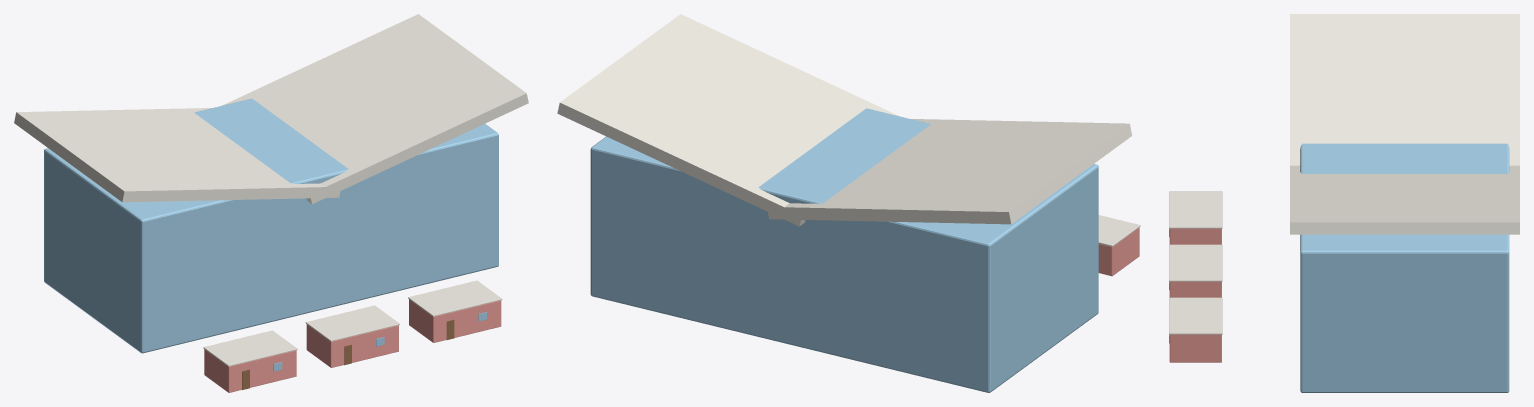
File: JagalchiMarket_blockout.glb
3 renders of one model, left to right at view 1: azimuth 30°, elevation 25°; view 2: azimuth 150°, elevation 25°; view 3: azimuth 270°, elevation 25°, orthographic. The views are drawn at different scales.
Parts seen in each view (by area): view 1: ENV08_JagalchiMarket_Market_L0, ENV08_JagalchiMarket_WingRoof1_L0, ENV08_JagalchiMarket_WingRoof0_L0, ENV08_JagalchiMarket_GrillShop2Wall_L0, ENV08_JagalchiMarket_GrillShop1Wall_L0, ENV08_JagalchiMarket_GrillShop0Wall_L0, ENV08_JagalchiMarket_GrillShop0Roof_L0, ENV08_JagalchiMarket_GrillShop2Roof_L0, ENV08_JagalchiMarket_GrillShop1Roof_L0; view 2: ENV08_JagalchiMarket_Market_L0, ENV08_JagalchiMarket_WingRoof1_L0, ENV08_JagalchiMarket_WingRoof0_L0, ENV08_JagalchiMarket_GrillShop0Wall_L0, ENV08_JagalchiMarket_GrillShop0Roof_L0; view 3: ENV08_JagalchiMarket_Market_L0, ENV08_JagalchiMarket_WingRoof0_L0, ENV08_JagalchiMarket_WingRoof1_L0, ENV08_JagalchiMarket_GrillShop0Roof_L0, ENV08_JagalchiMarket_GrillShop1Roof_L0, ENV08_JagalchiMarket_GrillShop2Roof_L0, ENV08_JagalchiMarket_GrillShop2Wall_L0, ENV08_JagalchiMarket_GrillShop0Wall_L0, ENV08_JagalchiMarket_GrillShop1Wall_L0.
Boxes of the visible parts, x1,y1,x2,y2 form: ENV08_JagalchiMarket_Market_L0: (44,98,498,353); ENV08_JagalchiMarket_WingRoof1_L0: (222,14,528,203); ENV08_JagalchiMarket_WingRoof0_L0: (14,108,340,202); ENV08_JagalchiMarket_GrillShop2Wall_L0: (409,299,501,342); ENV08_JagalchiMarket_GrillShop1Wall_L0: (306,324,398,367); ENV08_JagalchiMarket_GrillShop0Wall_L0: (204,349,296,392); ENV08_JagalchiMarket_GrillShop0Roof_L0: (203,330,297,366); ENV08_JagalchiMarket_GrillShop2Roof_L0: (408,280,502,316); ENV08_JagalchiMarket_GrillShop1Roof_L0: (305,305,399,341); ENV08_JagalchiMarket_Market_L0: (590,108,1098,392); ENV08_JagalchiMarket_WingRoof1_L0: (557,14,899,226); ENV08_JagalchiMarket_WingRoof0_L0: (767,119,1132,224); ENV08_JagalchiMarket_GrillShop0Wall_L0: (1098,227,1139,276); ENV08_JagalchiMarket_GrillShop0Roof_L0: (1098,215,1140,246); ENV08_JagalchiMarket_Market_L0: (1300,143,1509,392); ENV08_JagalchiMarket_WingRoof0_L0: (1290,14,1519,165); ENV08_JagalchiMarket_WingRoof1_L0: (1290,165,1519,234); ENV08_JagalchiMarket_GrillShop0Roof_L0: (1169,191,1222,228); ENV08_JagalchiMarket_GrillShop1Roof_L0: (1169,244,1222,281); ENV08_JagalchiMarket_GrillShop2Roof_L0: (1169,297,1222,334); ENV08_JagalchiMarket_GrillShop2Wall_L0: (1169,334,1221,362); ENV08_JagalchiMarket_GrillShop0Wall_L0: (1169,228,1221,244); ENV08_JagalchiMarket_GrillShop1Wall_L0: (1169,281,1221,297).
Size of the model in its own units: 47.68 by 19.29 by 33.56.
